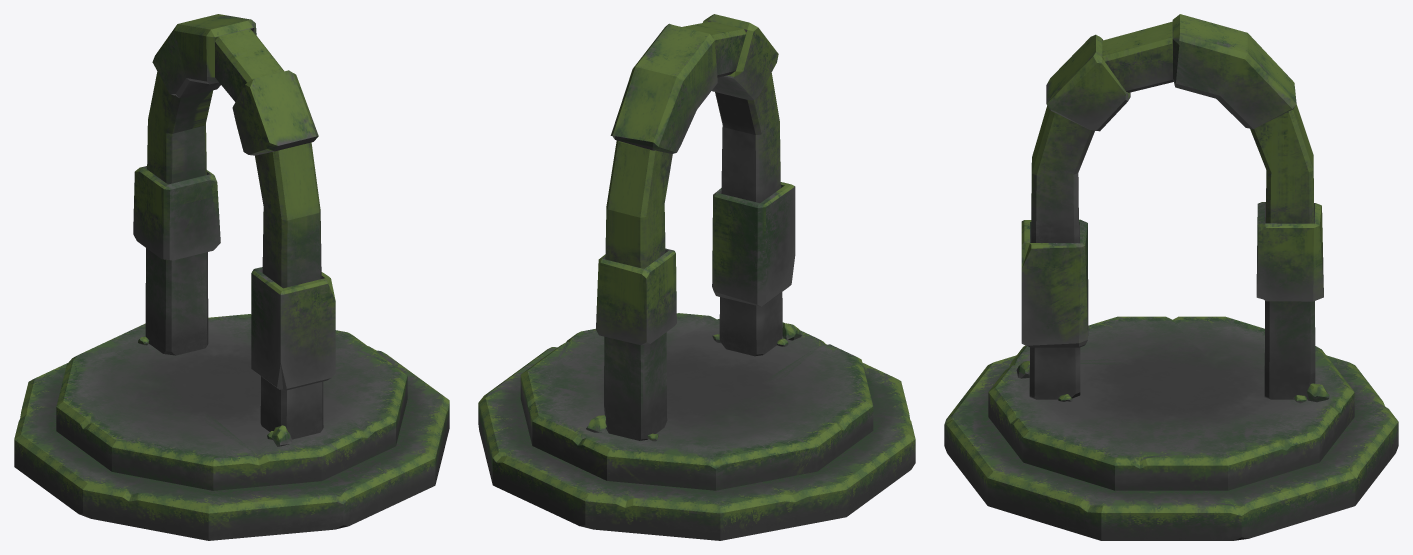
Rendered from PortalMossy.fbx.
3 renders of one model, left to right at view 1: azimuth 30°, elevation 25°; view 2: azimuth 150°, elevation 25°; view 3: azimuth 270°, elevation 25°, orthographic. The views are drawn at different scales.
Parts seen in each view (by area): view 1: Icosphere.017; view 2: Icosphere.017; view 3: Icosphere.017.
Part boxes in pixels (x1,y1,x2,y2): Icosphere.017: [14, 14, 449, 540]; Icosphere.017: [478, 14, 915, 540]; Icosphere.017: [944, 14, 1398, 540].
Size of the model in its own units: 291 by 318 by 306.
